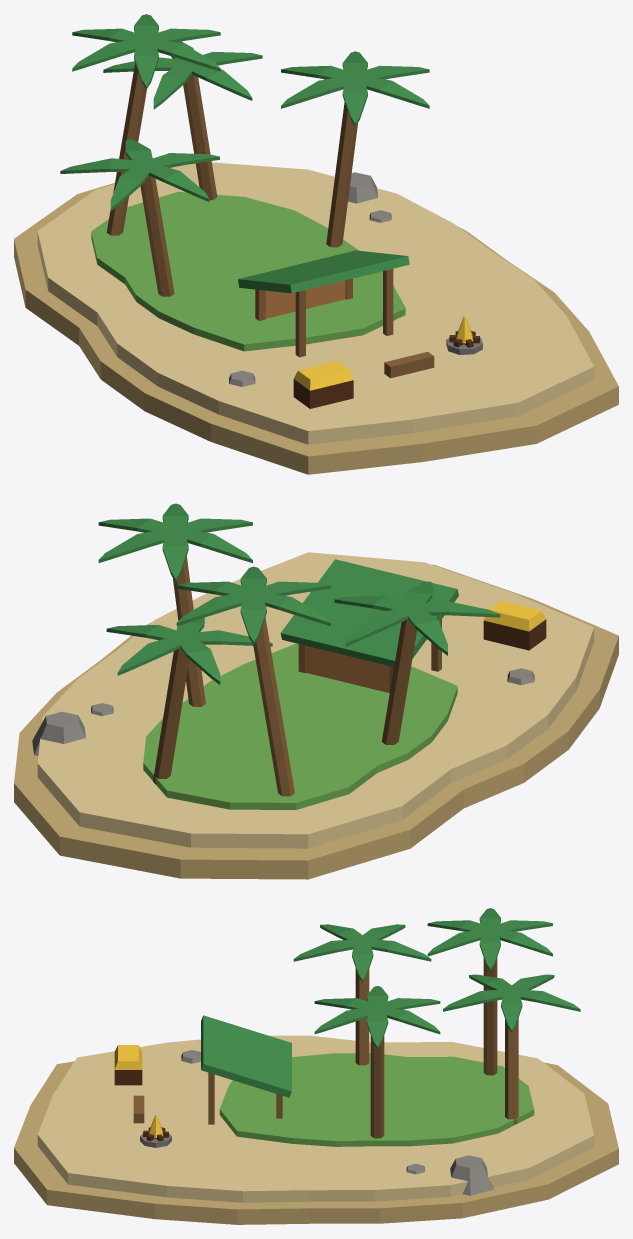
File: desert-island-2x3.glb
The picture shows the model from 3 angles, top to bottom: view 1: azimuth 30°, elevation 25°; view 2: azimuth 150°, elevation 25°; view 3: azimuth 270°, elevation 25°; orthographic projection. The views are drawn at different scales.
Parts seen in each view (by area): view 1: DesertIsland2x3; view 2: DesertIsland2x3; view 3: DesertIsland2x3.
Boxes of the visible parts, bbox=[...] form: DesertIsland2x3: bbox=[14, 14, 618, 474]; DesertIsland2x3: bbox=[14, 503, 618, 879]; DesertIsland2x3: bbox=[14, 908, 618, 1224].
Size of the model in its own units: 1.88 by 0.9753 by 2.84.
1 material, 1 textured.
